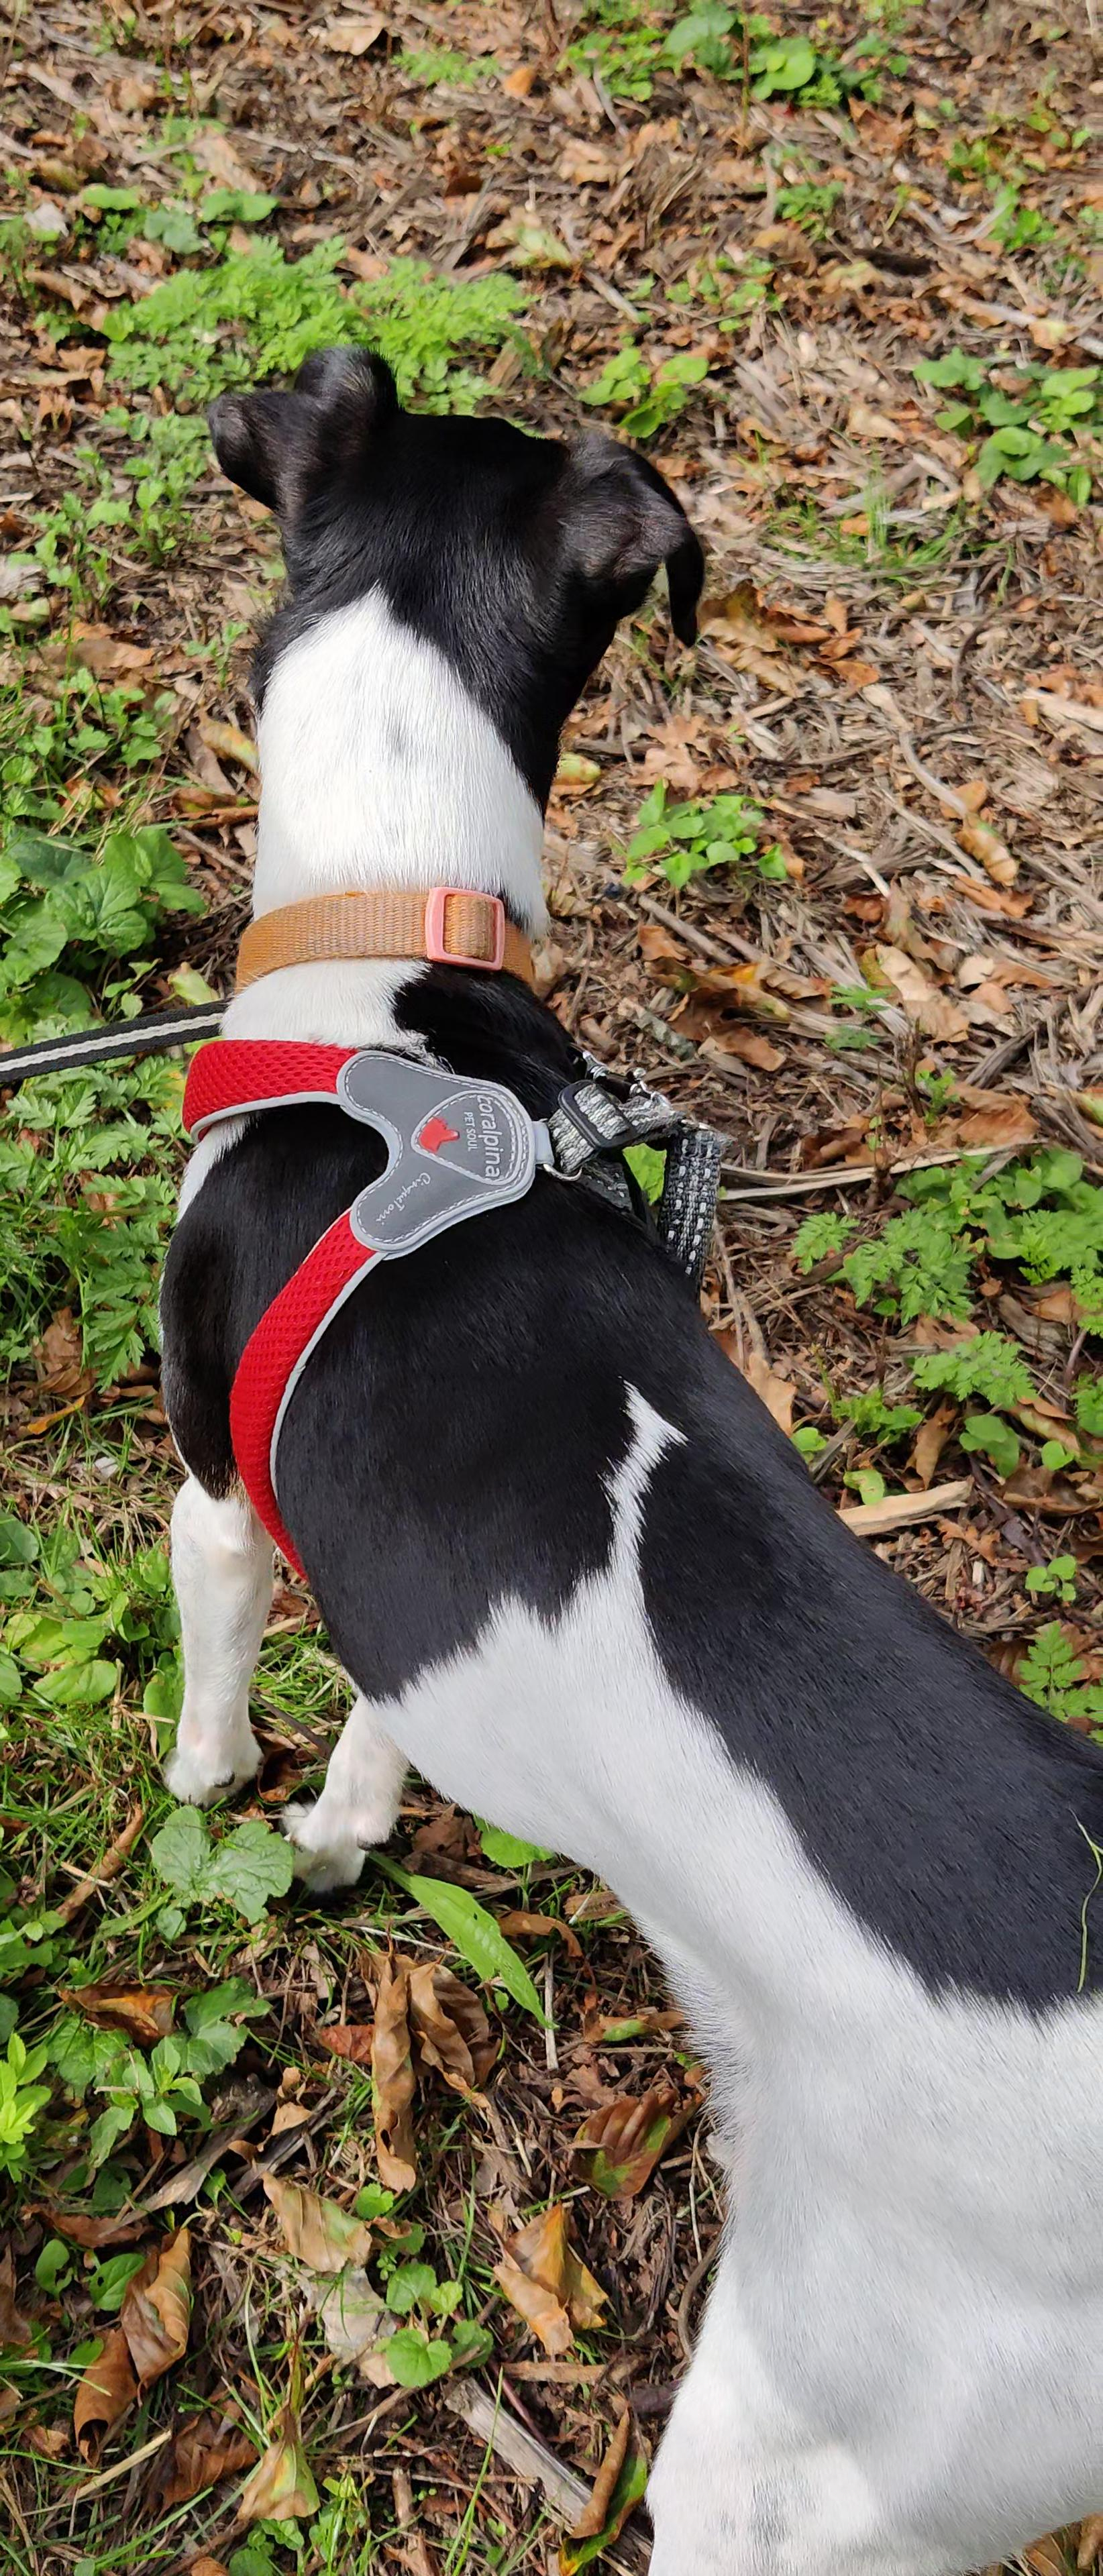Dog: (133, 333, 1103, 2576)
